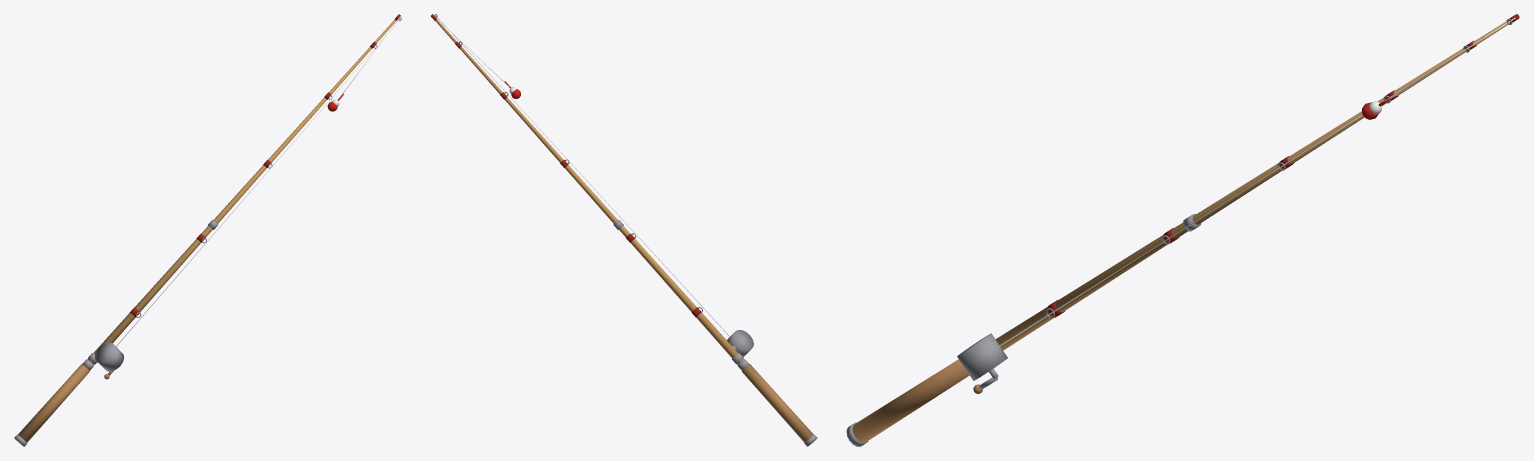
The model's file is angelrute.glb.
The picture shows the model from 3 angles, left to right: view 1: azimuth 30°, elevation 25°; view 2: azimuth 150°, elevation 25°; view 3: azimuth 330°, elevation 25°; orthographic projection. The views are drawn at different scales.
Parts seen in each view (by area): view 1: angelrute; view 2: angelrute; view 3: angelrute.
Boxes of the visible parts, bbox=[...] form: angelrute: bbox=[14, 14, 401, 446]; angelrute: bbox=[431, 14, 817, 446]; angelrute: bbox=[846, 14, 1519, 446].
Bounding box in the file's own units: 1.56 × 1.32 × 0.126.
